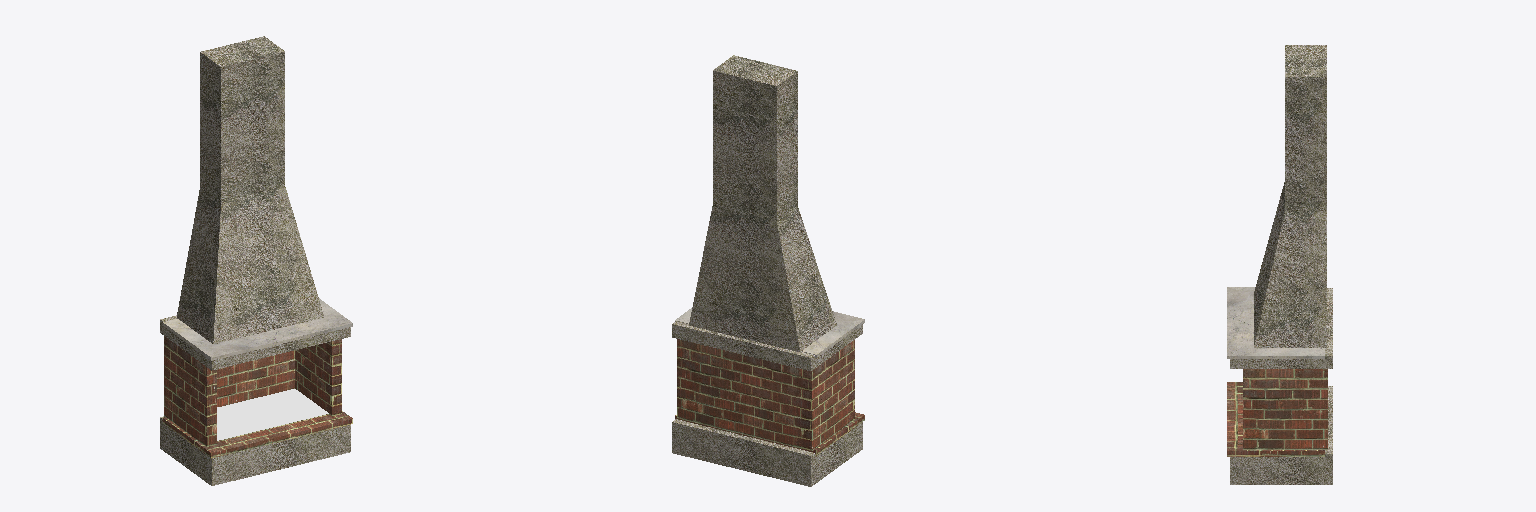
The picture shows the model from 3 angles: view 1: azimuth 30°, elevation 25°; view 2: azimuth 150°, elevation 25°; view 3: azimuth 270°, elevation 25°; orthographic projection.
Visible parts, largest first — view 1: Box05, C_Ext01, Box01, Plane01, Box04, Box02, Box03; view 2: Box05, C_Ext01, Box01, Box03, Box04, Box02; view 3: Box05, C_Ext01, Box01, Box04, Box02, Box03.
Part boxes in pixels (x1,y1,x2,y2): Box05: (177, 36, 323, 343); C_Ext01: (164, 336, 341, 446); Box01: (160, 416, 350, 485); Plane01: (217, 389, 328, 440); Box04: (163, 298, 352, 360); Box02: (163, 411, 352, 458); Box03: (160, 315, 350, 370); Box05: (689, 55, 836, 352); C_Ext01: (677, 339, 854, 450); Box01: (672, 419, 862, 486); Box03: (672, 321, 862, 370); Box04: (675, 308, 864, 357); Box02: (675, 412, 864, 455); Box05: (1254, 45, 1326, 348); C_Ext01: (1243, 369, 1327, 449); Box01: (1230, 386, 1332, 484); Box04: (1227, 287, 1324, 358); Box02: (1227, 382, 1324, 456); Box03: (1230, 288, 1332, 368).
Size of the model in its own units: 1.43 by 3.75 by 0.9202.
4 materials, 3 textured.